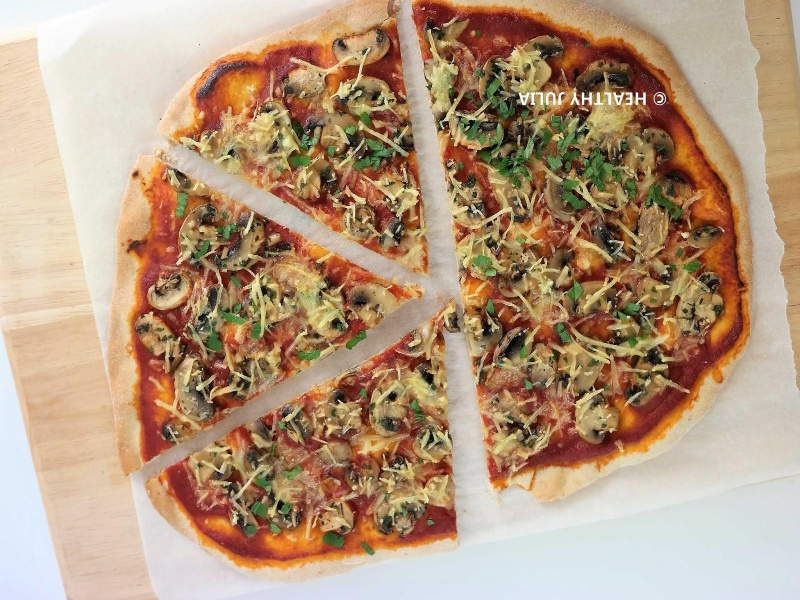champignon: (132, 311, 197, 375), (331, 73, 406, 120), (364, 385, 414, 444), (573, 389, 624, 445), (343, 277, 406, 320), (142, 273, 198, 316), (331, 27, 391, 67)
